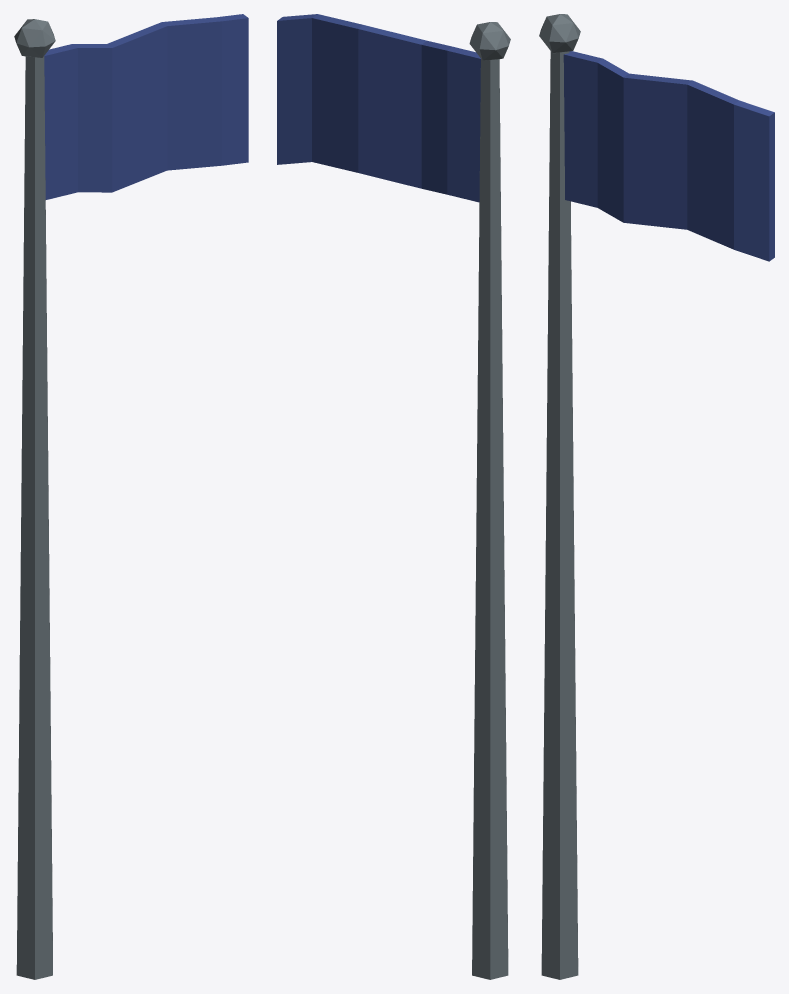
Rendered from SM_Prop_FlagPole_01.fbx.
3 views of the same model, side by side, from view 1: azimuth 30°, elevation 25°; view 2: azimuth 150°, elevation 25°; view 3: azimuth 330°, elevation 25° (orthographic).
Visible parts, largest first — view 1: SM_Prop_FlagPole_01; view 2: SM_Prop_FlagPole_01; view 3: SM_Prop_FlagPole_01.
Part boxes in pixels (x1,y1,x2,y2): SM_Prop_FlagPole_01: (14,14,248,979); SM_Prop_FlagPole_01: (277,14,510,979); SM_Prop_FlagPole_01: (539,14,774,979).
Bounding box in the file's own units: 59.51 × 236 × 9.54.
